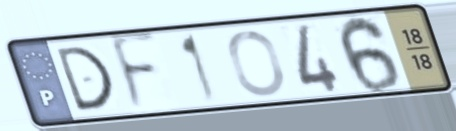1: (177, 29, 220, 106)
4: (294, 20, 342, 95)
6: (334, 12, 405, 94)
D: (51, 43, 118, 115)
F: (106, 29, 162, 117)
O: (225, 28, 288, 99)
